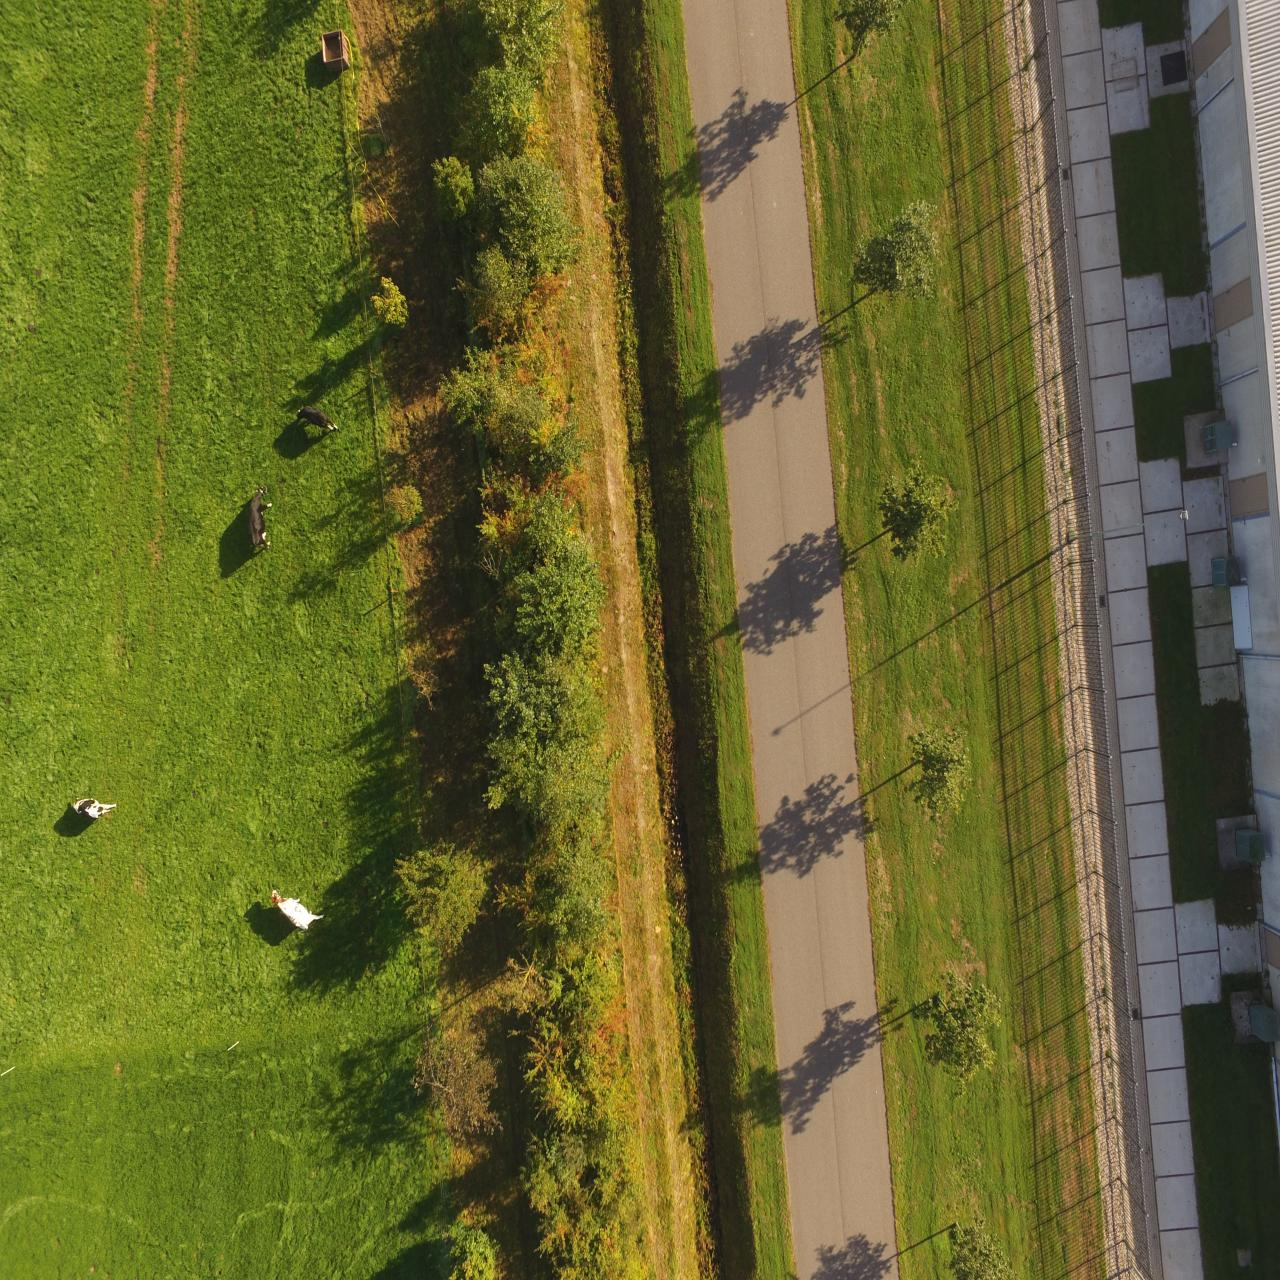cow: (266, 890, 333, 932), (298, 408, 353, 447), (247, 482, 271, 565), (64, 795, 122, 822)
